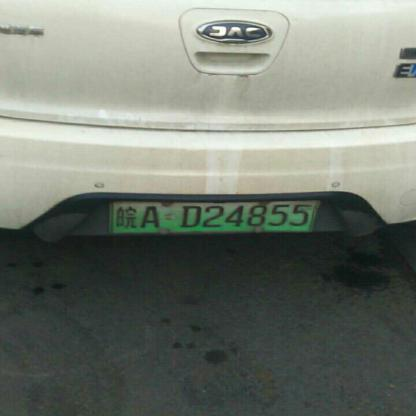lp: (110, 200, 319, 234)
